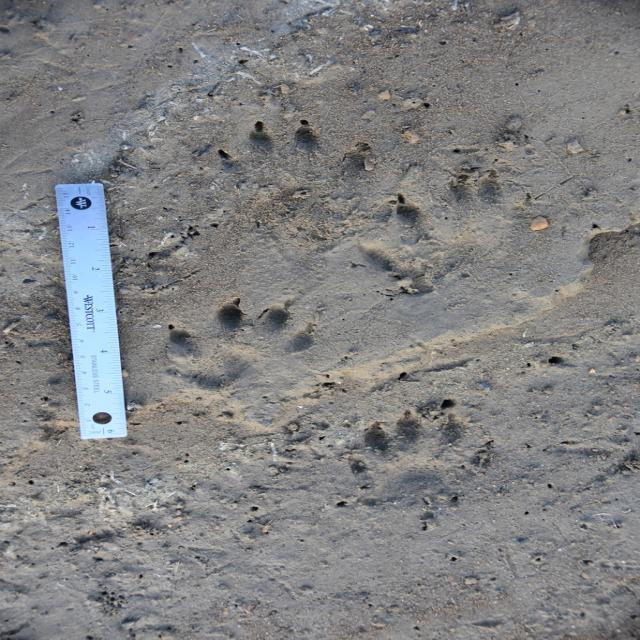mustelid: (212, 119, 367, 246), (345, 408, 500, 512), (164, 295, 312, 402)
